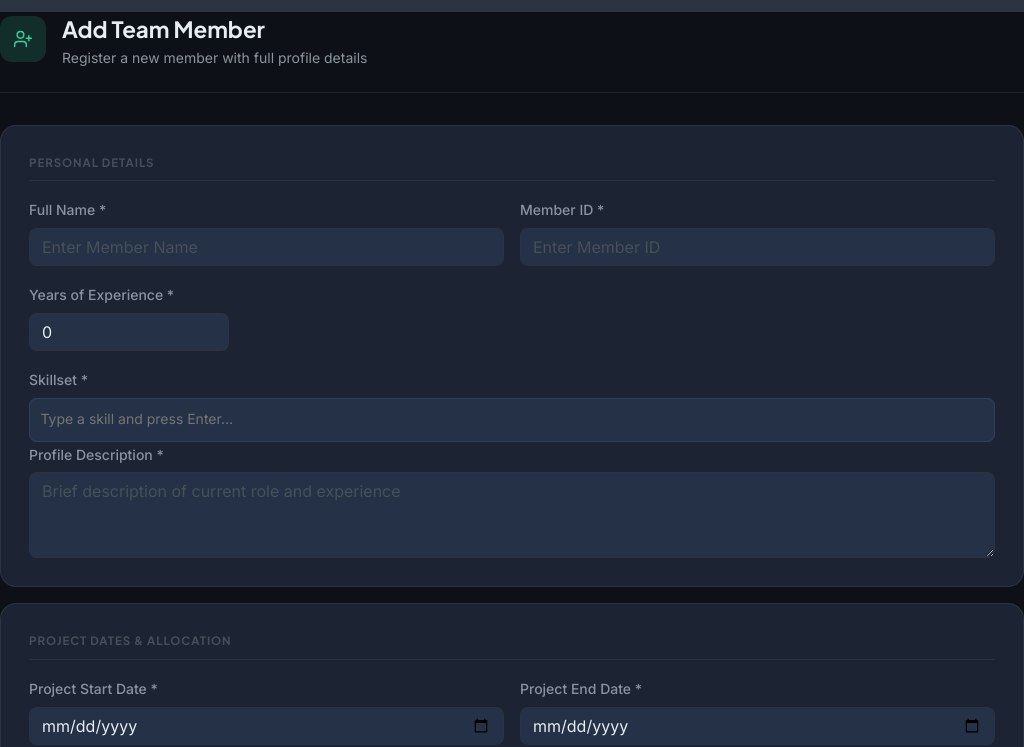
Scenario: AddMemberPage › should show error for member ID when empty
Step 1. Click the field labelled "Member ID *" → (758, 247), box x1=520 y1=228 x2=995 y2=266
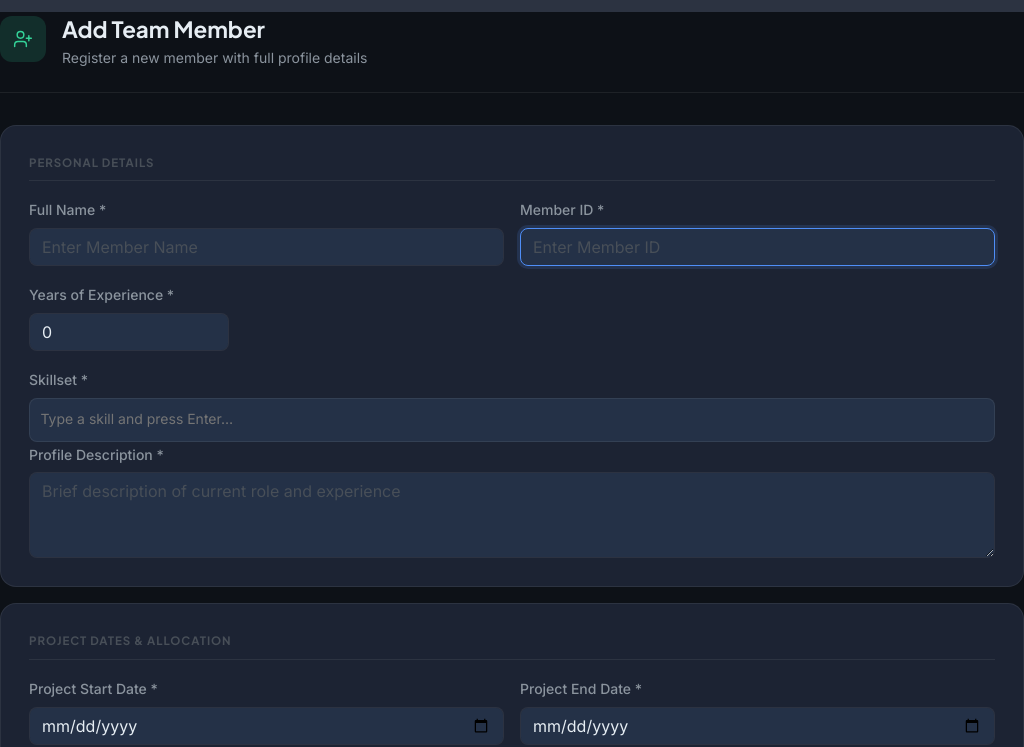
Step 2. Press Tab
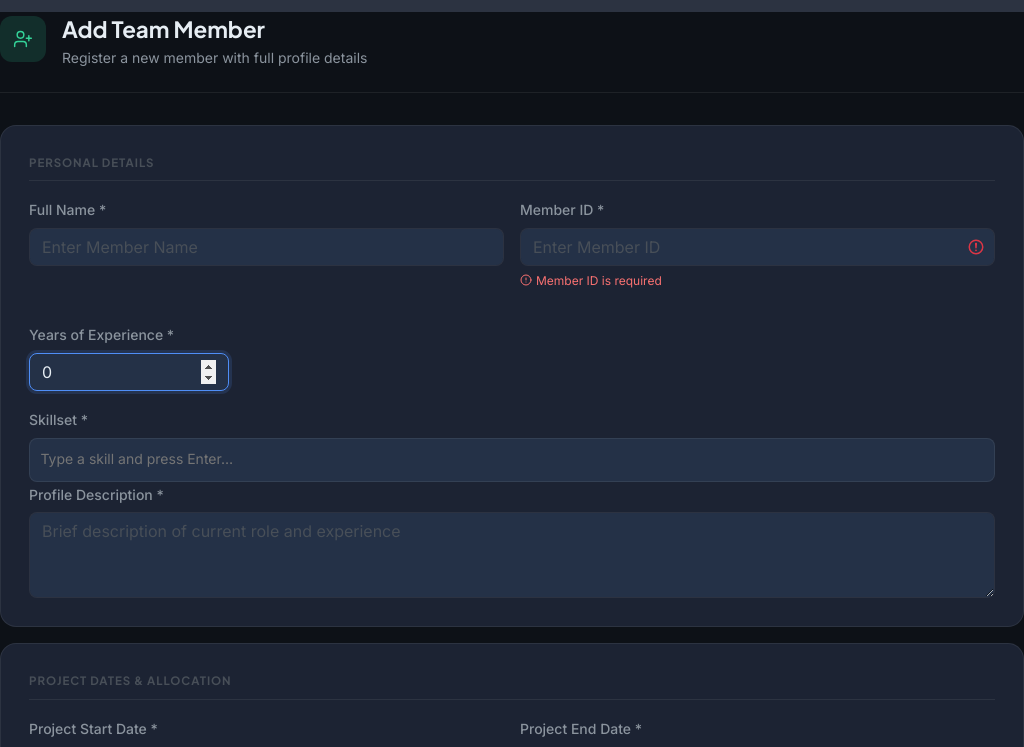
Result: the text "Member ID is required" is shown at x1=520 y1=273 x2=662 y2=288
